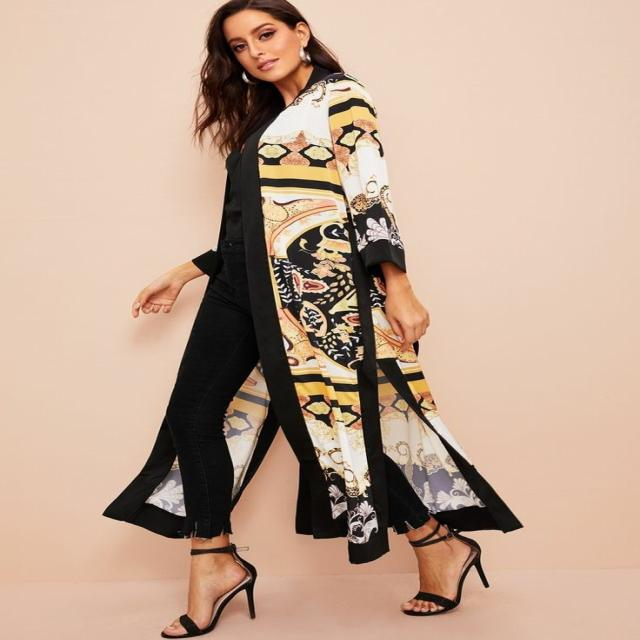female-dress: (175, 84, 508, 558)
